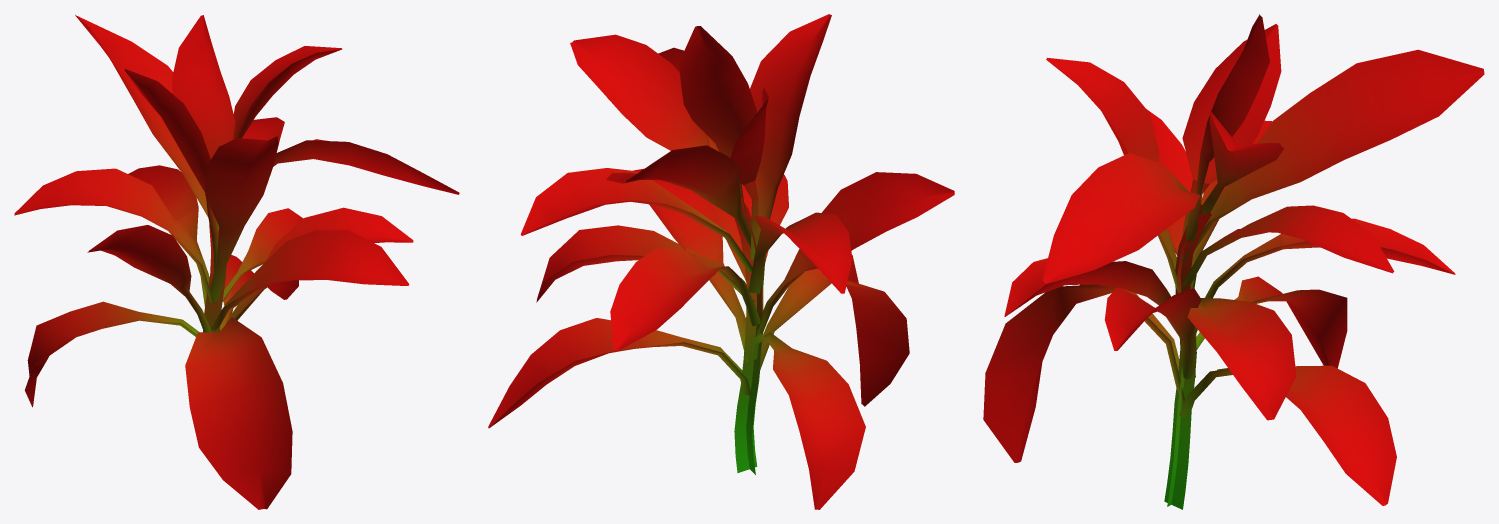
The model's file is FBX_Plant_3D_010.fbx.
3 views of the same model, side by side, from view 1: azimuth 30°, elevation 25°; view 2: azimuth 150°, elevation 25°; view 3: azimuth 270°, elevation 25° (orthographic). The views are drawn at different scales.
Visible parts, largest first — view 1: Var1_LOD1; view 2: Var1_LOD1; view 3: Var1_LOD1.
Part boxes in pixels (x1=…): Var1_LOD1: x1=14, y1=15, x2=459, y2=509; Var1_LOD1: x1=488, y1=14, x2=954, y2=509; Var1_LOD1: x1=983, y1=14, x2=1484, y2=509.
Size of the model in its own units: 68.61 by 82.82 by 75.85.
